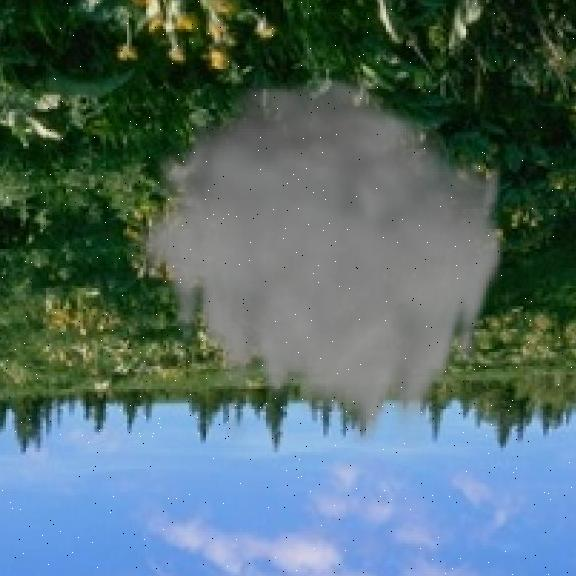smoke: (134, 69, 509, 458)
